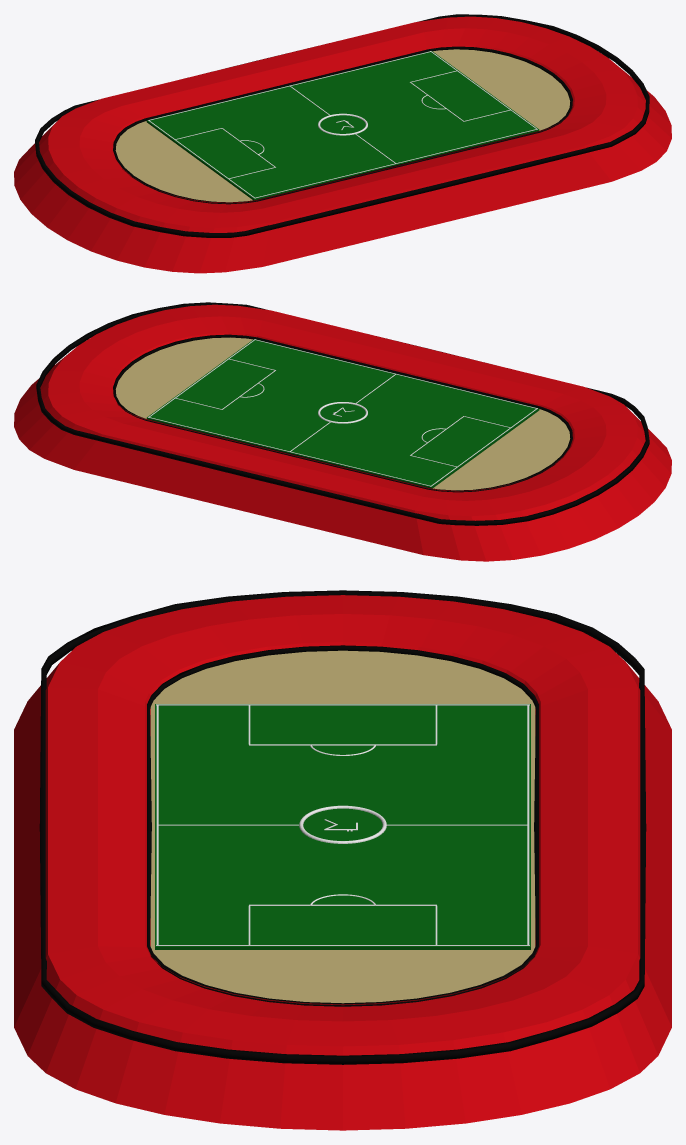
The model's file is track.fbx.
3 renders of one model, top to bottom at view 1: azimuth 30°, elevation 25°; view 2: azimuth 150°, elevation 25°; view 3: azimuth 270°, elevation 25°, orthographic. The views are drawn at different scales.
Visible parts, largest first — view 1: rect; view 2: rect; view 3: rect.
Boxes of the visible parts, x1,y1,x2,y2 form: rect: [14, 14, 671, 273]; rect: [14, 302, 671, 561]; rect: [14, 590, 671, 1130].
Bounding box in the file's own units: 29939 × 1687 × 16521.
